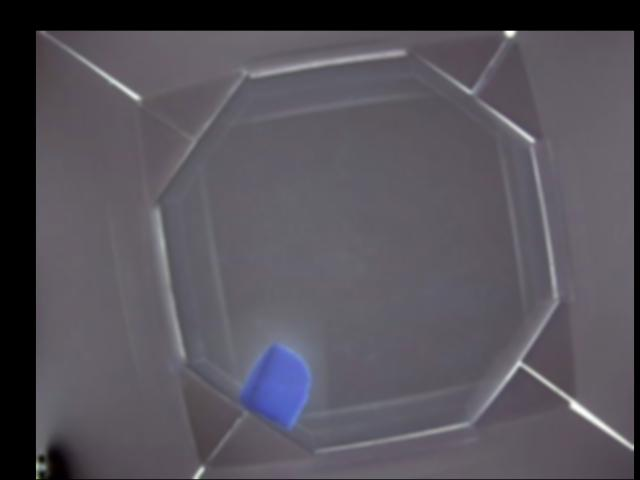Potato: (237, 345, 312, 426)
